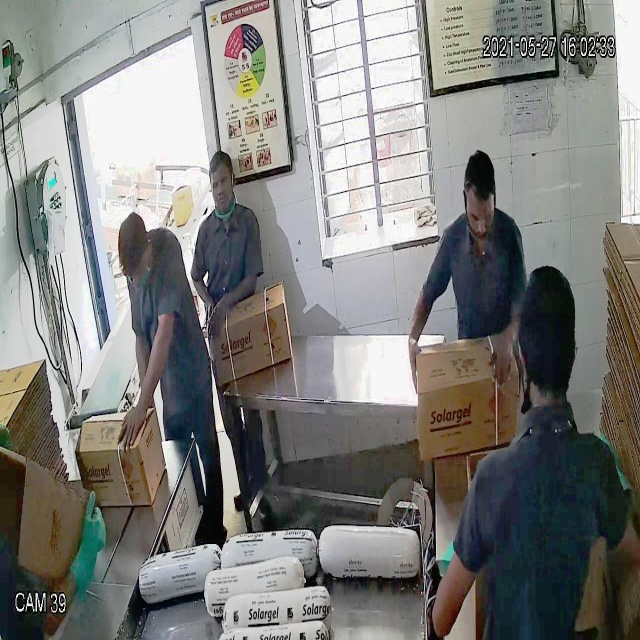Sin_gafas: (459, 196, 500, 234), (205, 168, 237, 198)
